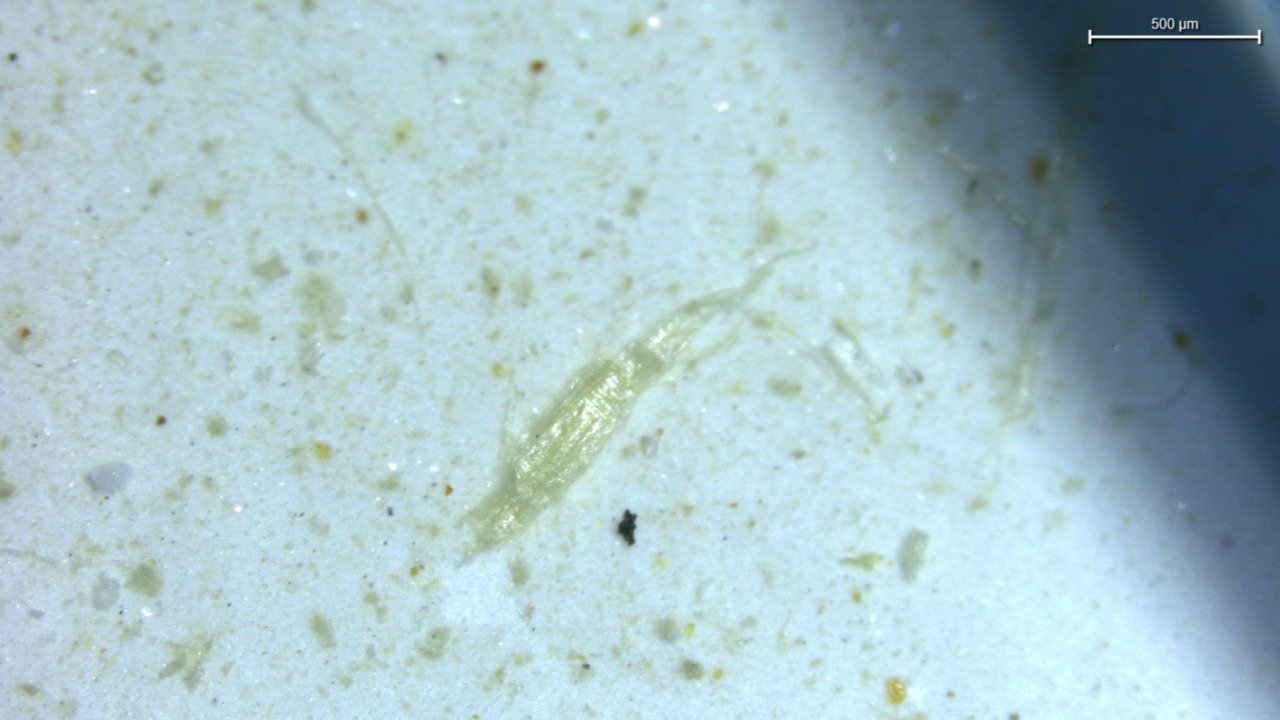microplastic_fragment: (469, 258, 778, 549), (87, 462, 132, 493)
